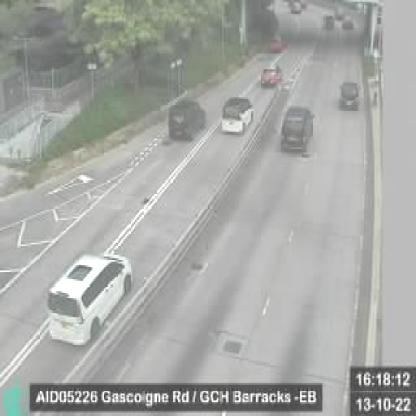Car: (46, 252, 134, 347), (280, 107, 314, 153), (168, 99, 206, 139), (220, 96, 255, 134), (339, 78, 359, 110), (259, 64, 281, 88)
